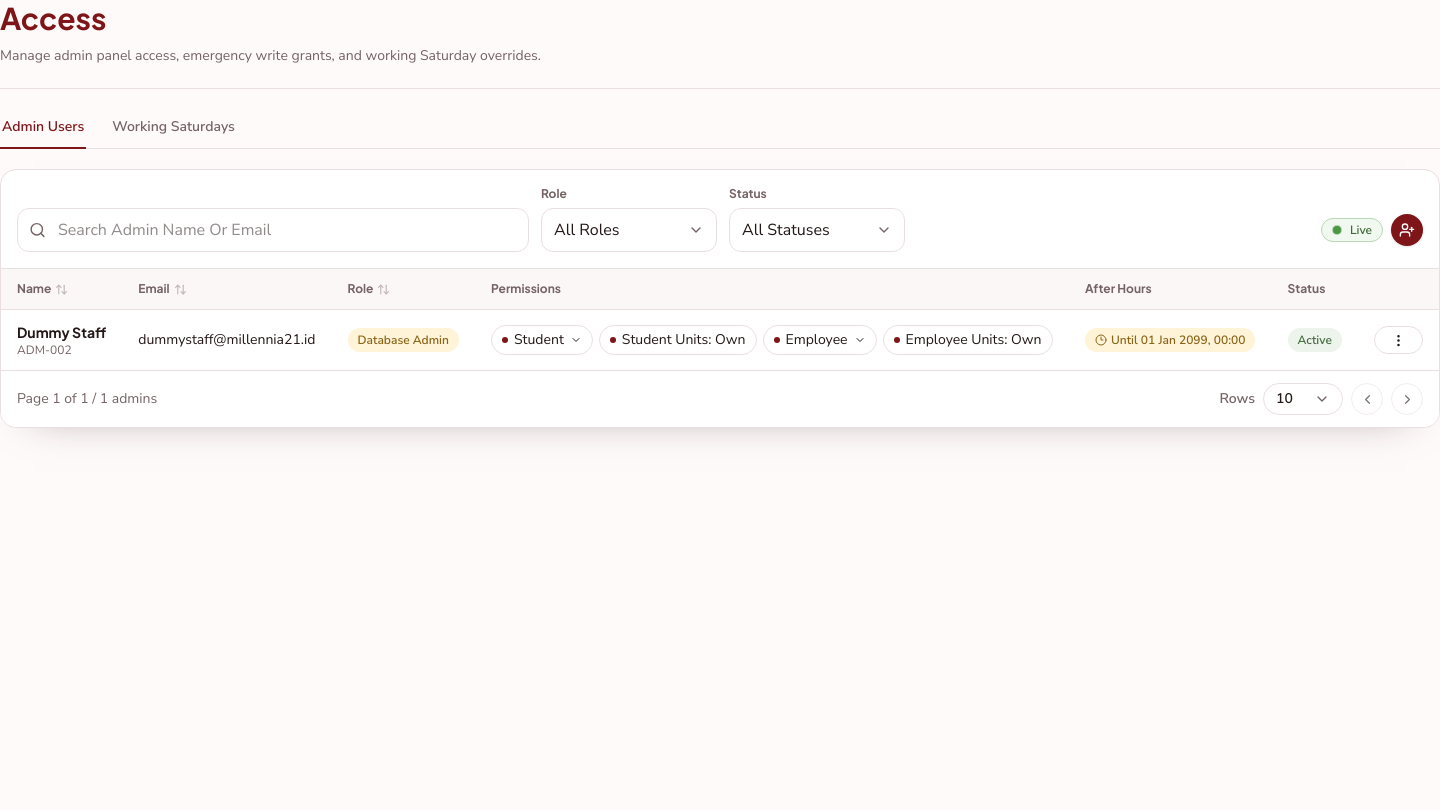
Test: Access role change summary › shows cleared task permissions and retained view permissions
Check: the text "dummystaff@millennia21.id" is shown, box [138,330,316,350]
Click the button named "Actions for dummystaff@millennia21.id" at [1398, 340], box [1374,326,1423,354]
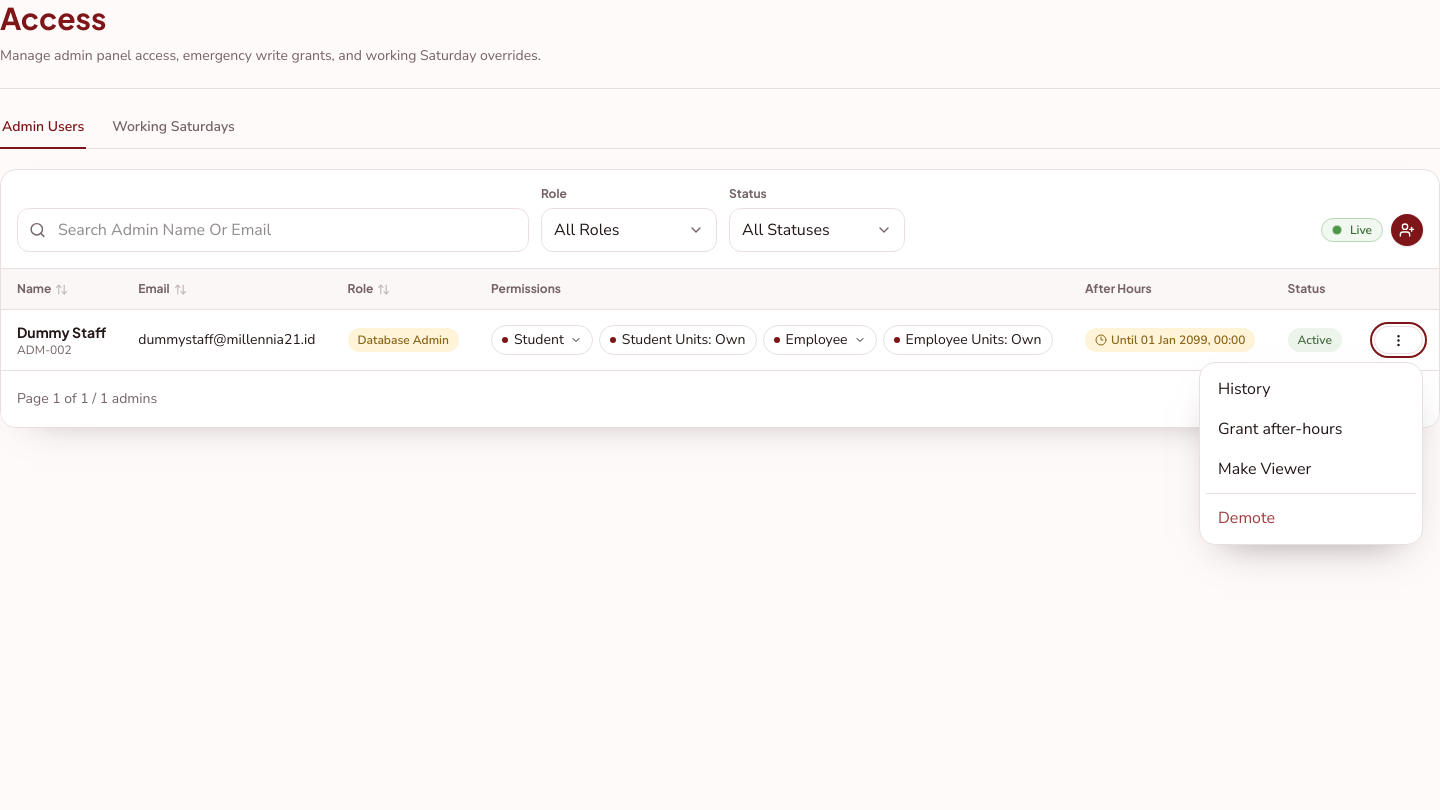
Click the button "Make Viewer" at [1311, 469], box [1206,449,1416,489]
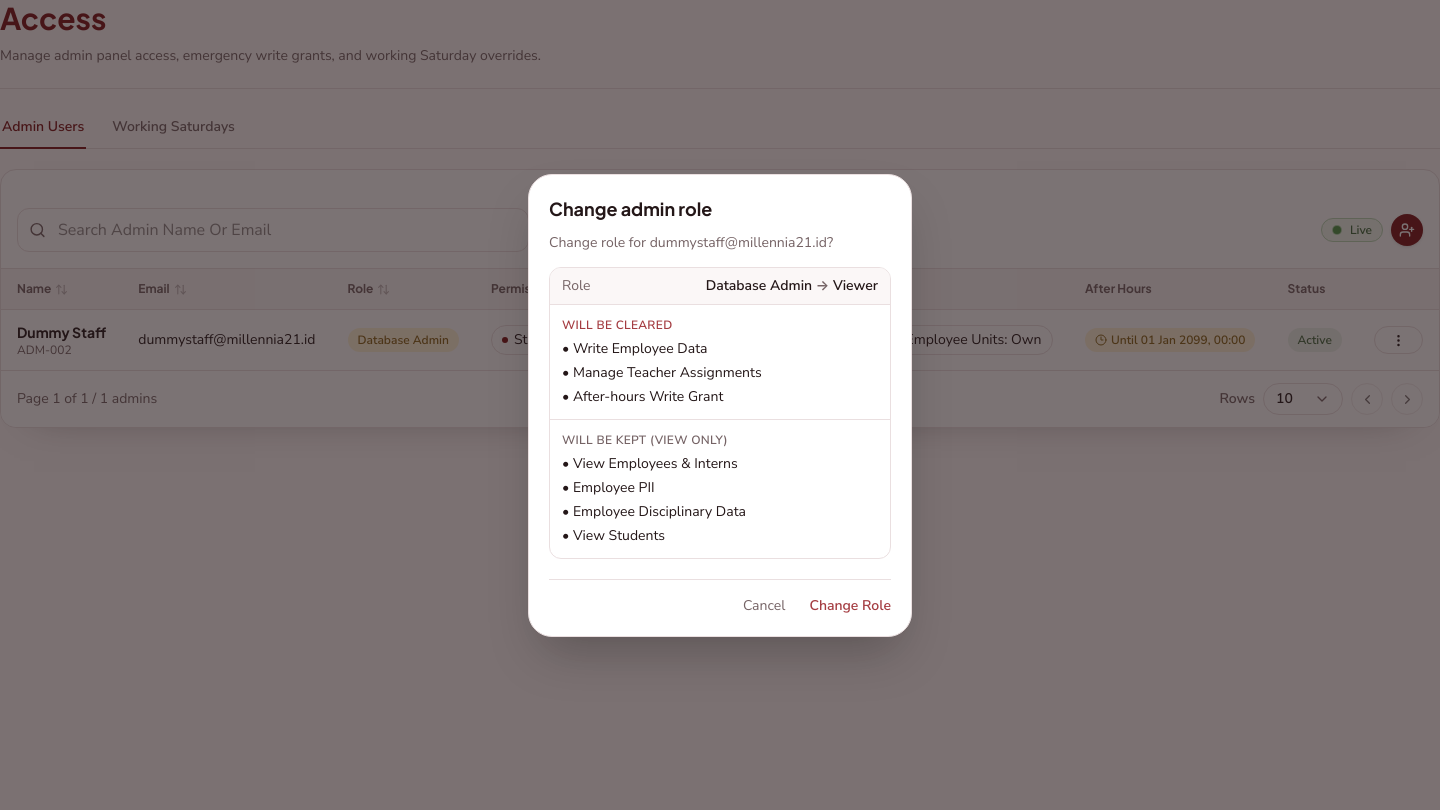
Check: the text "Will be cleared" is shown, box [562,316,672,332]
Check: the list item "• Write Employee Data" is shown, box [562,338,708,358]
Check: the list item "• Manage Teacher Assignments" is shown, box [562,362,762,382]
